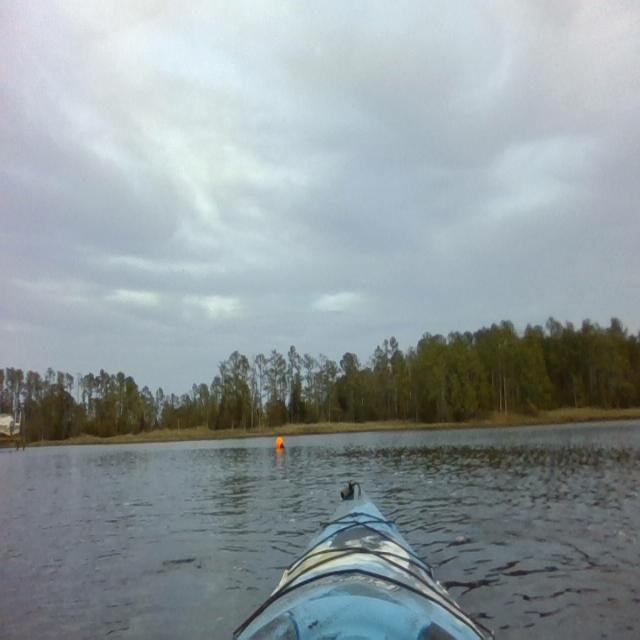Buoy: (274, 434, 285, 453)
